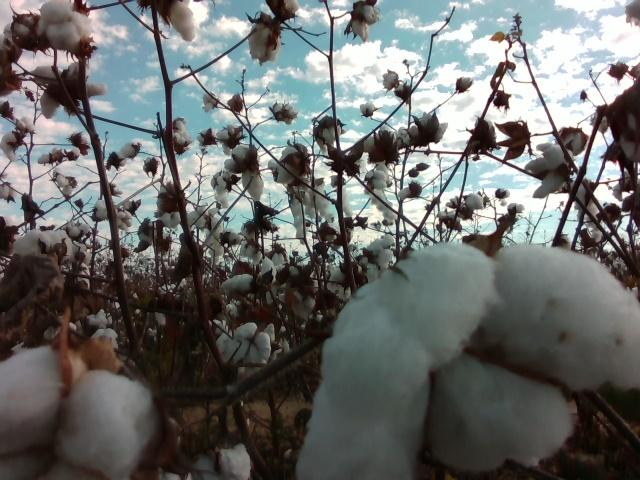cotton_ready: (297, 242, 640, 480), (0, 345, 155, 480), (33, 61, 106, 119), (523, 143, 574, 198), (36, 0, 94, 48), (220, 322, 274, 367), (218, 256, 278, 296), (192, 442, 252, 480), (225, 144, 264, 202), (15, 229, 75, 264), (248, 21, 282, 67), (267, 146, 308, 184), (364, 126, 405, 156), (409, 110, 447, 142), (352, 2, 381, 42), (170, 1, 196, 42), (622, 110, 640, 161), (157, 188, 181, 226), (8, 16, 39, 40), (274, 0, 300, 18)
